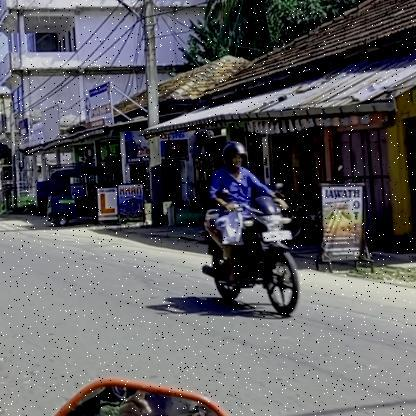motorcycle: (194, 194, 306, 318)
